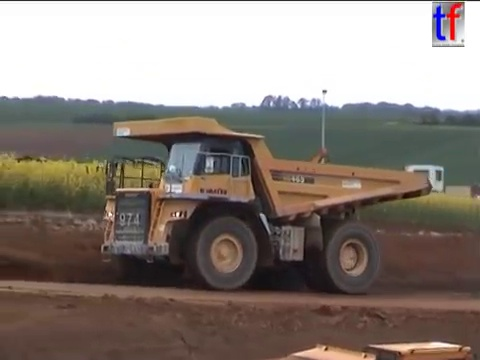truck: (93, 113, 434, 297), (258, 338, 480, 360)
